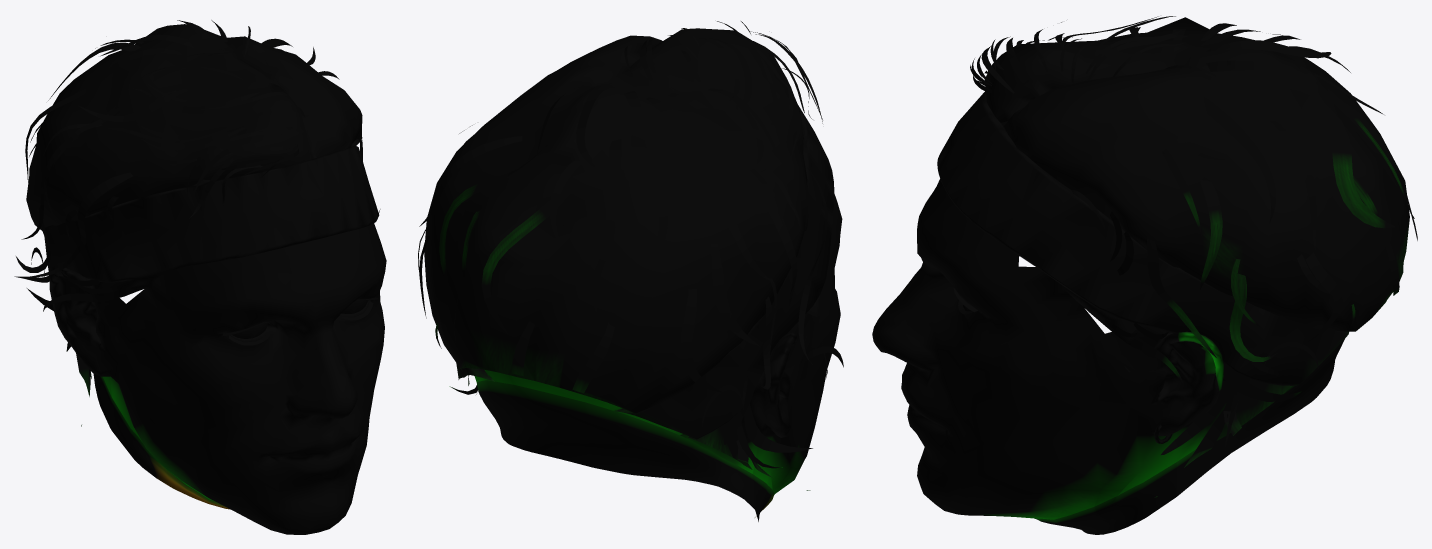
The model's file is MEL_15.glb.
3 renders of one model, left to right at view 1: azimuth 30°, elevation 25°; view 2: azimuth 150°, elevation 25°; view 3: azimuth 270°, elevation 25°, orthographic. The views are drawn at different scales.
Visible parts, largest first — view 1: ec85cb34_d793_4a8d_a6d2_f396b577eec3; view 2: ec85cb34_d793_4a8d_a6d2_f396b577eec3; view 3: ec85cb34_d793_4a8d_a6d2_f396b577eec3.
Part boxes in pixels (left/top/right/bottom): ec85cb34_d793_4a8d_a6d2_f396b577eec3: left=14, top=20, right=386, bottom=534; ec85cb34_d793_4a8d_a6d2_f396b577eec3: left=418, top=21, right=843, bottom=521; ec85cb34_d793_4a8d_a6d2_f396b577eec3: left=872, top=16, right=1417, bottom=534.
Bounding box in the file's own units: 0.2028 × 0.2507 × 0.2517.
Materials: 1 (1 with a texture image).
